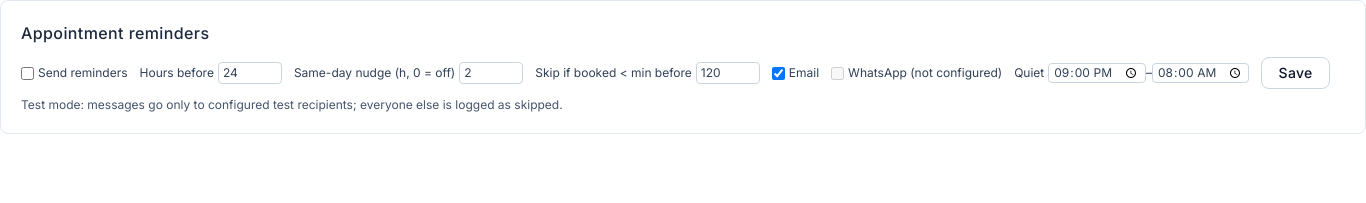
Test: Appointment reminders (#59) › saves settings inline, blocks a same-day nudge longer than the lead, and explains test mode
Expected: the text with test id "reminder-mode" shows "only to configured test recipients", [21,97,563,112]
Expected: the checkbox with test id "reminder-whatsapp-enabled" is disabled, [831,66,844,80]
Replace the text in the number field with test id "reminder-same-day-hours" with "30" at (491, 73), box [459,62,523,84]
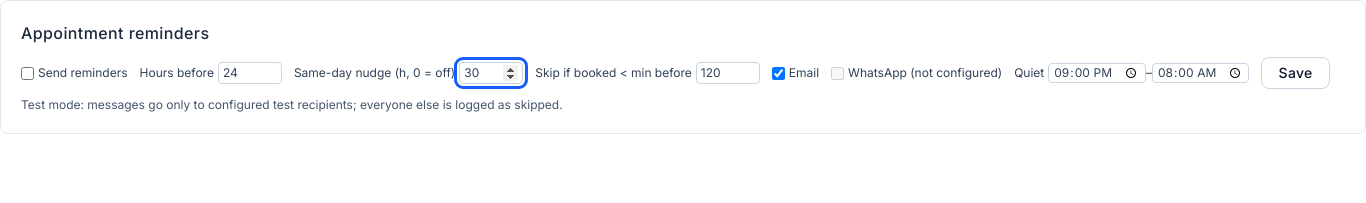
Replace the text in the number field with test id "reminder-lead-hours" with "12" at (250, 73), box [218,62,282,84]
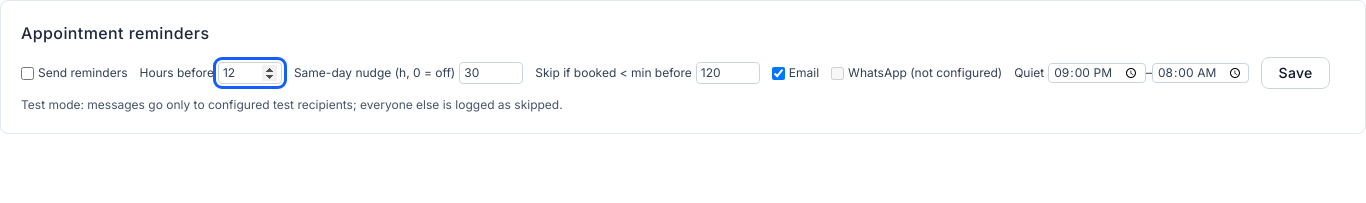
Click the button with test id "reminder-save" at (1296, 73), box [1262,57,1330,89]
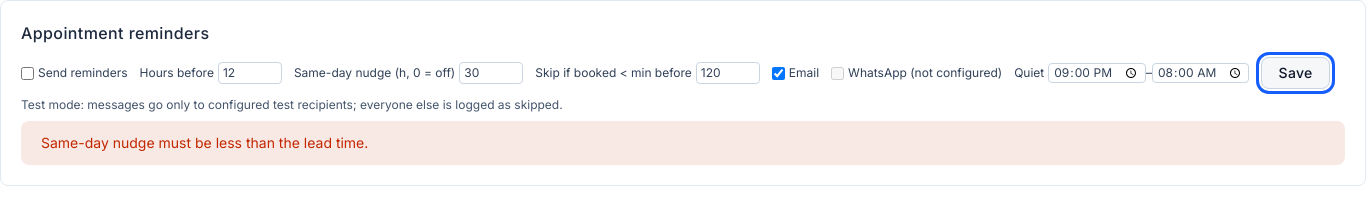
Now the text "Same-day nudge must be less than the lead time." is shown, box [21,121,1345,165]
Replace the text in the number field with test id "reminder-same-day-hours" with "3" at (491, 73), box [459,62,523,84]
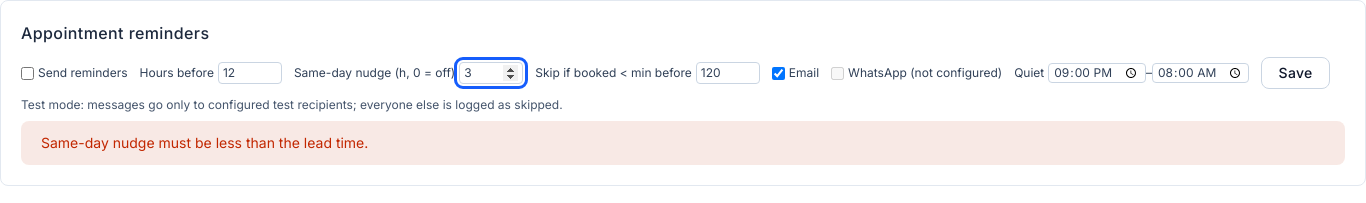
Click the checkbox with test id "reminder-enabled" at (28, 73), box [21,66,34,80]
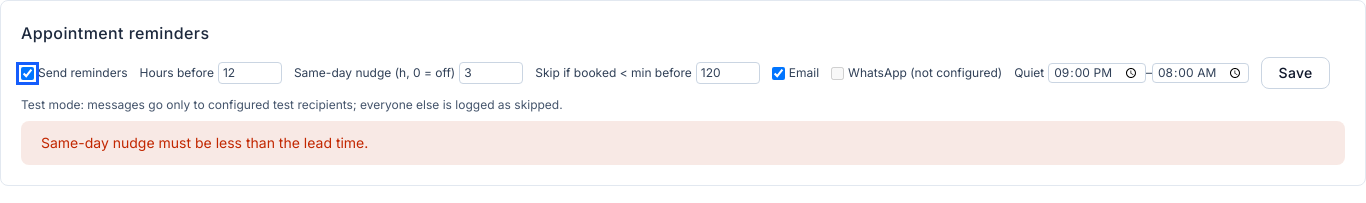
Click the button with test id "reminder-save" at (1296, 73), box [1262,57,1330,89]
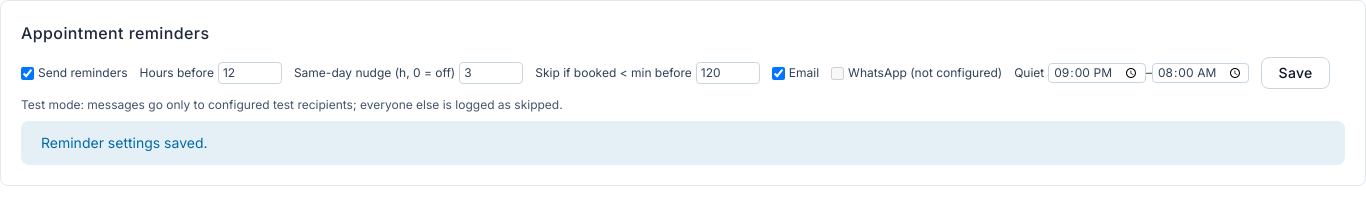
Now the text "Reminder settings saved." is shown, box [21,121,1345,165]
